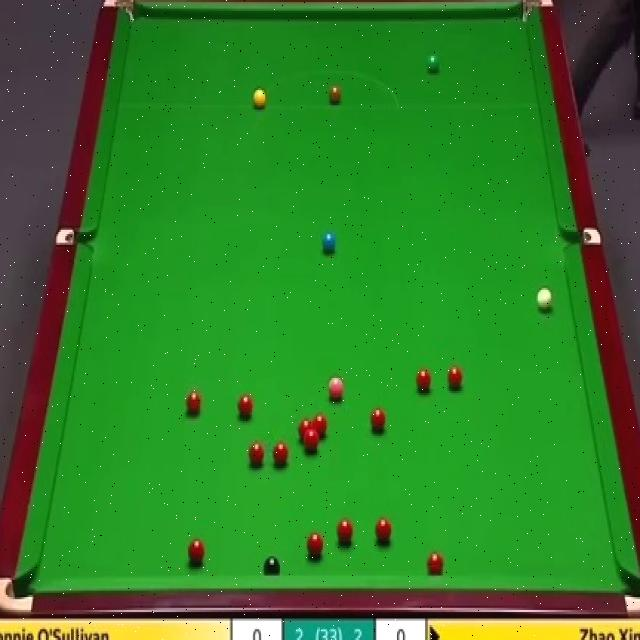black-ball: (263, 556, 281, 576)
blue-ball: (320, 228, 336, 255)
brown-ball: (328, 85, 341, 105)
green-ball: (424, 54, 440, 75)
pink-ball: (328, 372, 345, 401)
red-ball: (414, 366, 432, 397), (375, 516, 392, 545), (369, 406, 386, 434), (426, 551, 444, 577), (188, 538, 205, 565), (337, 518, 353, 546), (185, 390, 202, 416), (248, 440, 265, 466), (308, 532, 324, 558), (237, 394, 253, 420), (313, 414, 328, 441), (273, 442, 289, 467), (447, 367, 463, 392), (304, 432, 318, 453), (298, 419, 312, 440)
white-ball: (535, 284, 555, 314)
yellow-ball: (252, 87, 266, 108)
